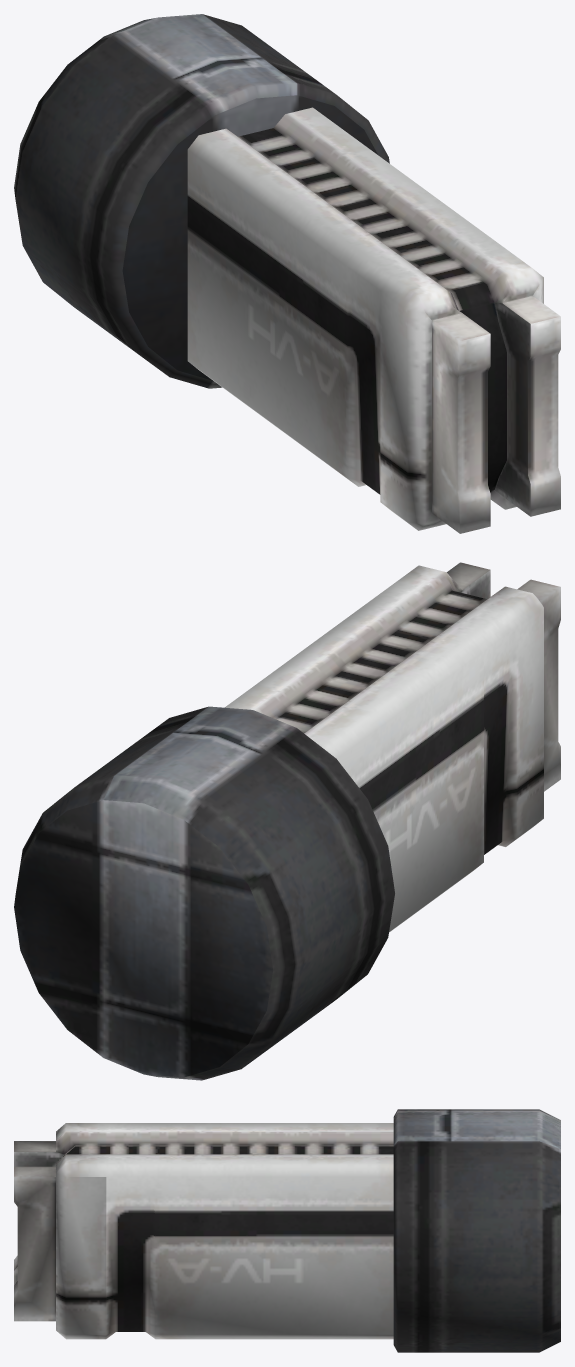
File: AmmoClip02.FBX
3 views of the same model, one above another, from view 1: azimuth 30°, elevation 25°; view 2: azimuth 150°, elevation 25°; view 3: azimuth 270°, elevation 25° (orthographic). The views are drawn at different scales.
Parts seen in each view (by area): view 1: AmmoClip02; view 2: AmmoClip02; view 3: AmmoClip02.
Part boxes in pixels (<box>): AmmoClip02: <box>14,14,560,533</box>; AmmoClip02: <box>14,562,560,1080</box>; AmmoClip02: <box>14,1109,560,1352</box>.
Bounding box in the file's own units: 0.224 × 0.224 × 0.5.
